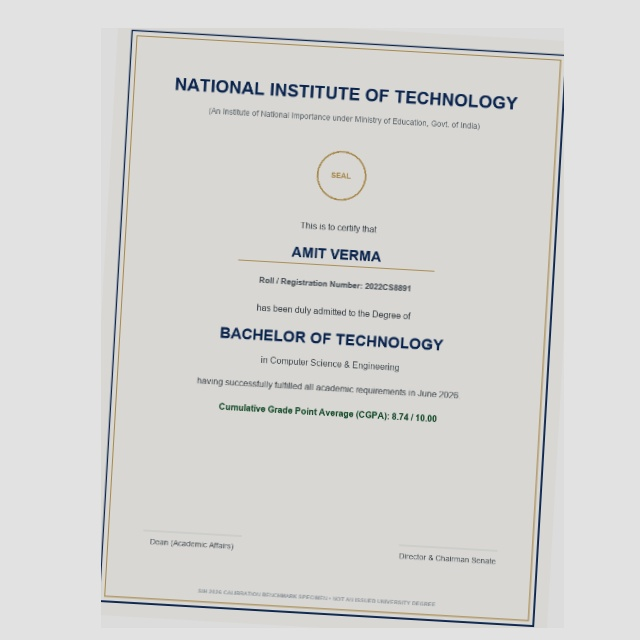marksheet: (101, 28, 564, 628)
